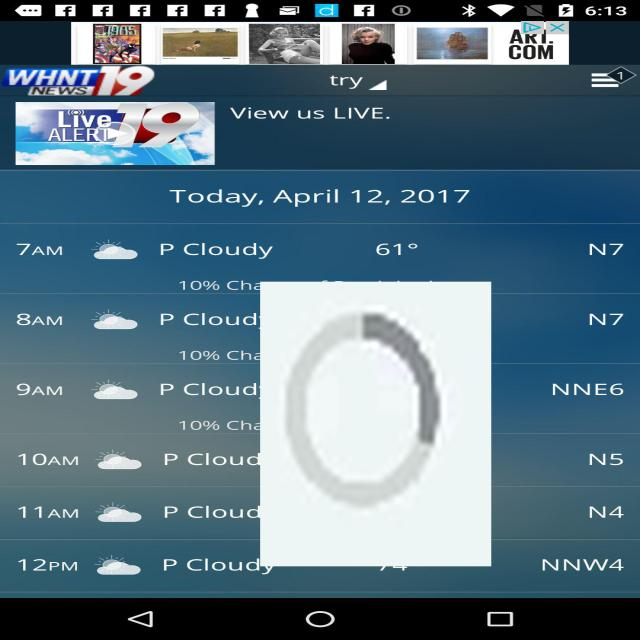misdirection: (260, 282, 491, 566)
